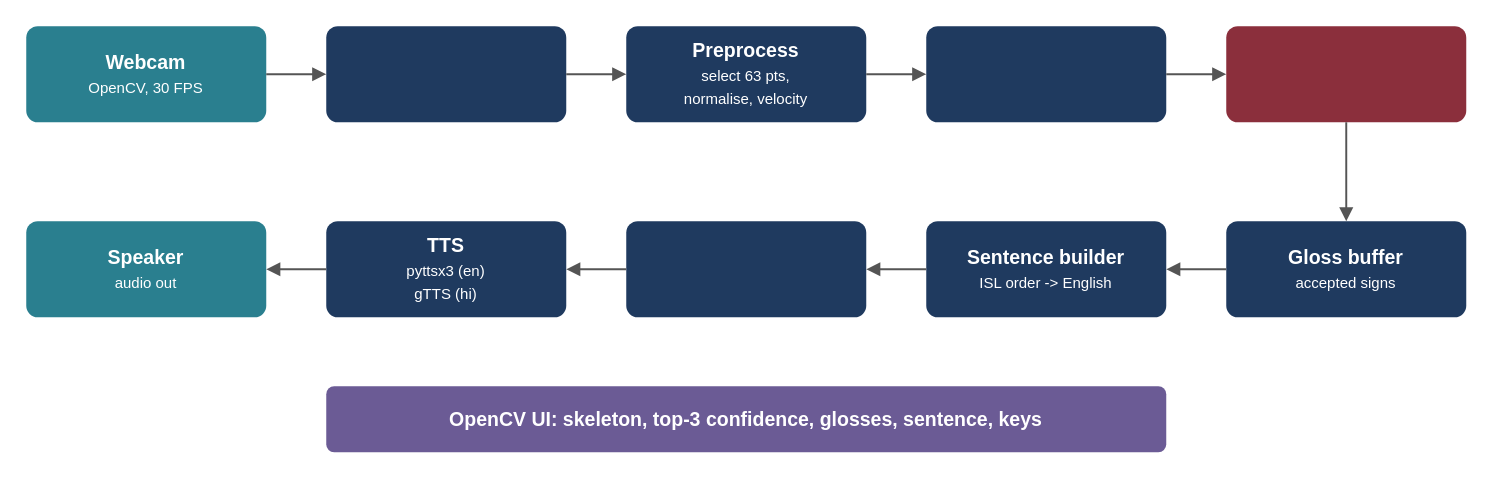
Some shapes in this 1491 by 477 pixel diagram are drawn without their labels. The centre of each missing label's shape, as x and y in pixels:
Classifier BiGRU (ONNX): the point at 1346,74
MediaPipe Holistic landmarks: the point at 446,74
Sign spotter motion gate + IDLE class: the point at 1046,74
Translation rules.json en + hi templates: the point at 746,268
